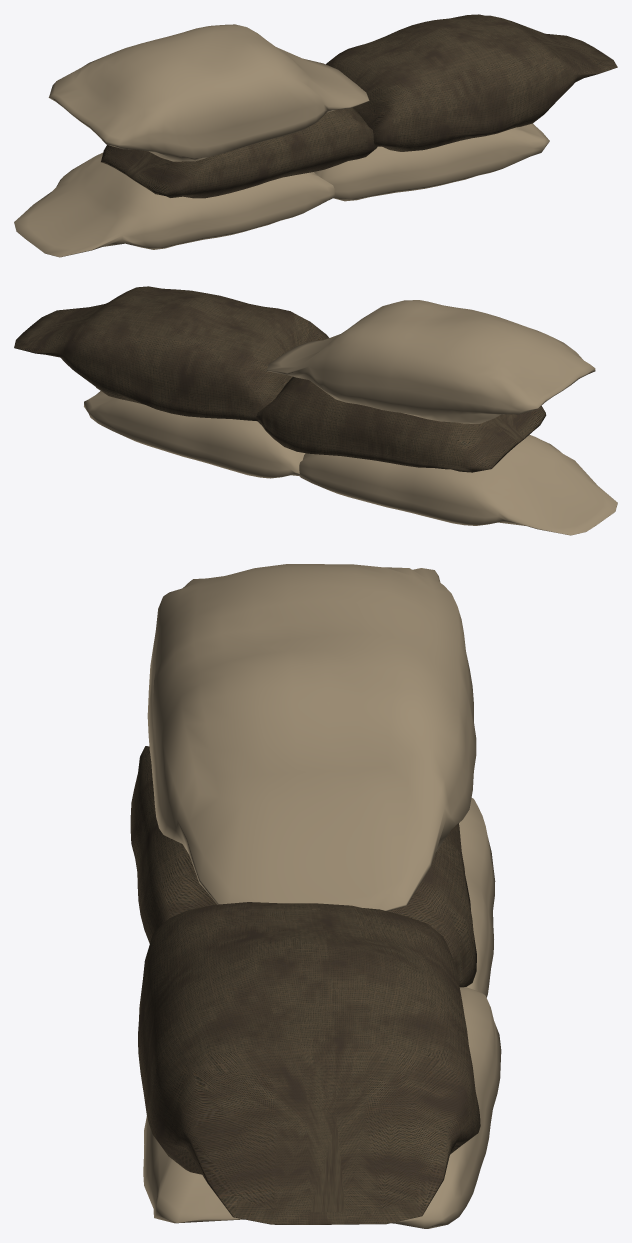
The model's file is S7U_SandbagsL_3L_B.fbx.
3 renders of one model, top to bottom at view 1: azimuth 30°, elevation 25°; view 2: azimuth 150°, elevation 25°; view 3: azimuth 270°, elevation 25°, orthographic. The views are drawn at different scales.
Parts seen in each view (by area): view 1: S7U_SandbagsL_3L_B; view 2: S7U_SandbagsL_3L_B; view 3: S7U_SandbagsL_3L_B.
Boxes of the visible parts, x1,y1,x2,y2 form: S7U_SandbagsL_3L_B: (14, 14, 617, 257); S7U_SandbagsL_3L_B: (14, 286, 617, 535); S7U_SandbagsL_3L_B: (130, 564, 501, 1228).
Bounding box in the file's own units: 2.24 × 0.6251 × 0.632.
